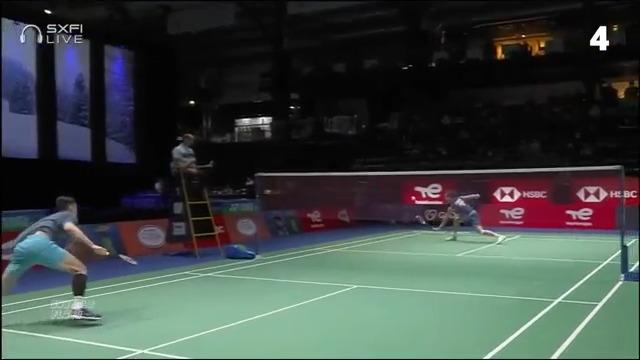Shuttlecock: (409, 195, 417, 202)
